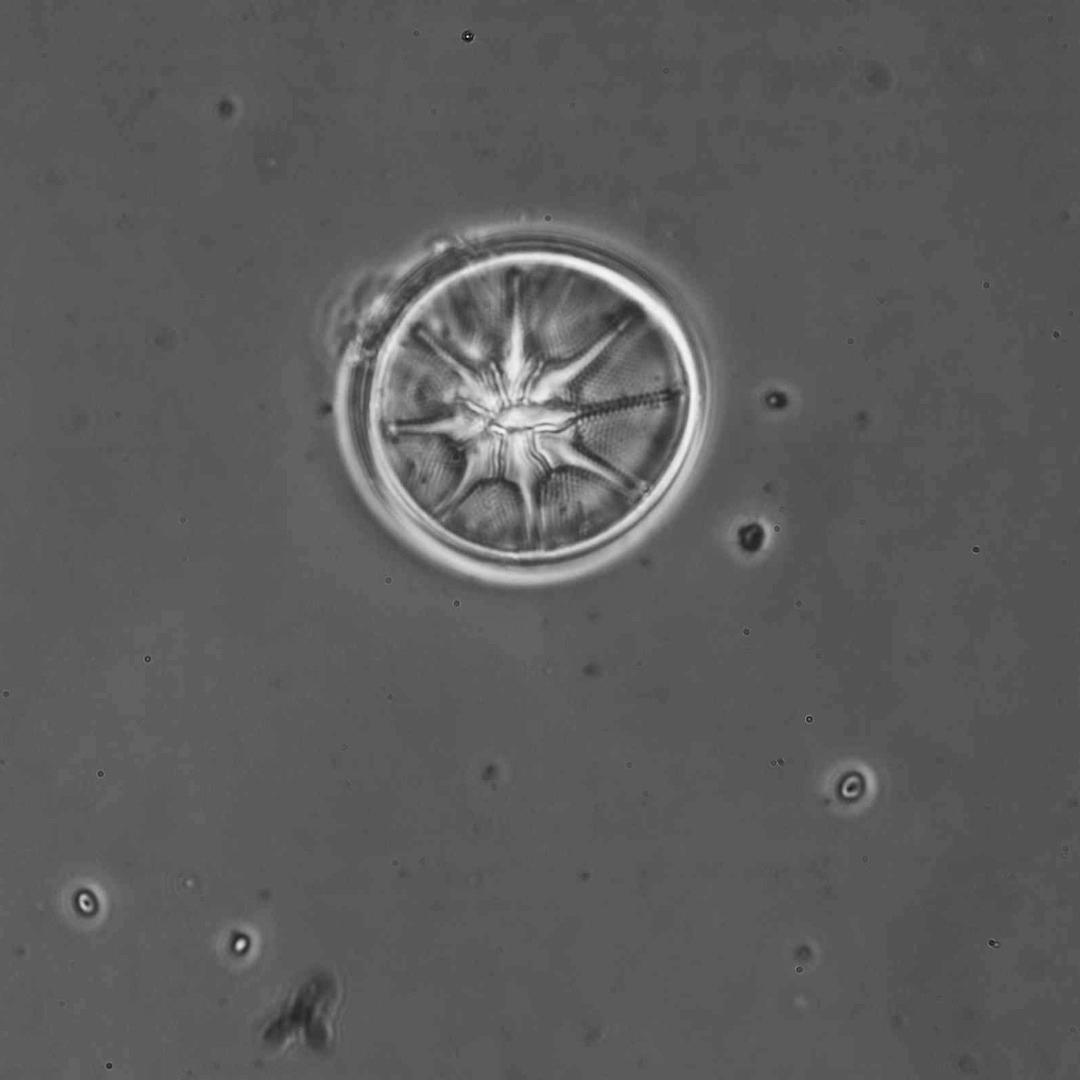asteromphalus_hyalinus: (379, 263, 688, 555)
